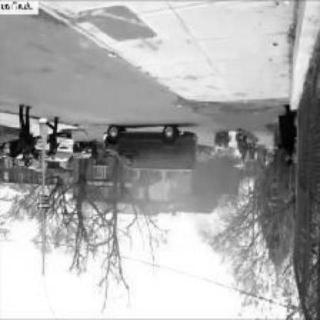Fire: (213, 129, 250, 165)
Smoke: (152, 167, 250, 247)
